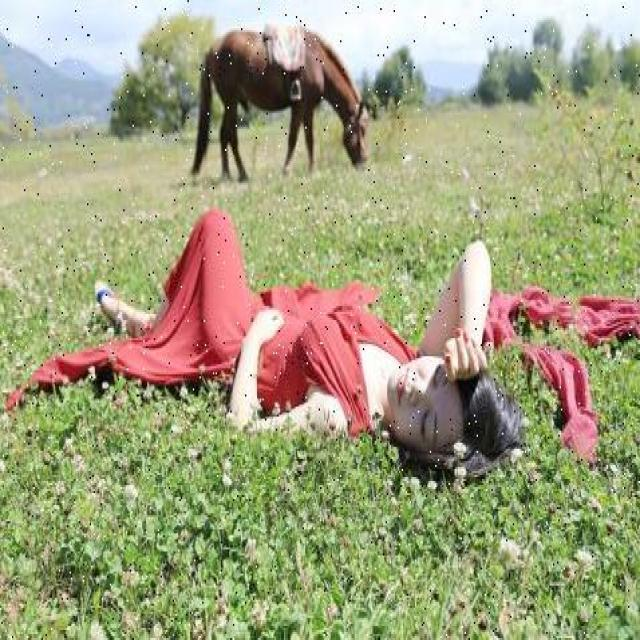fall: (98, 203, 514, 471)
